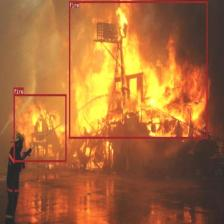fire: (69, 1, 207, 138), (13, 94, 66, 162)
